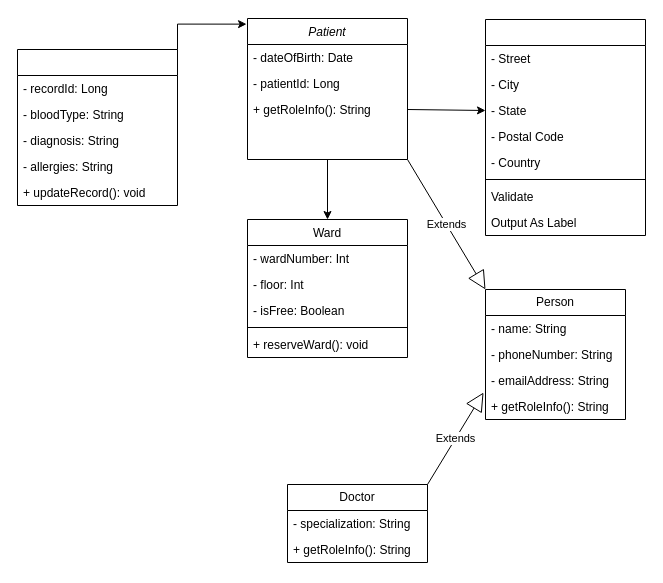
Image size: 663x583. Some labels were removed from this diagram. Here are the shapes that lost their labels. From the top down, the box of each, then its label:
(16, 48, 178, 206): MedicalRecord
(484, 18, 646, 236): Address
